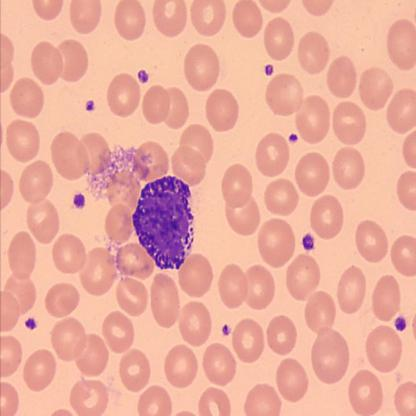Basophil: (132, 172, 196, 270)
